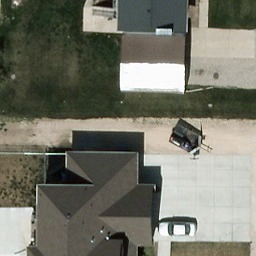car: (159, 221, 199, 236)
